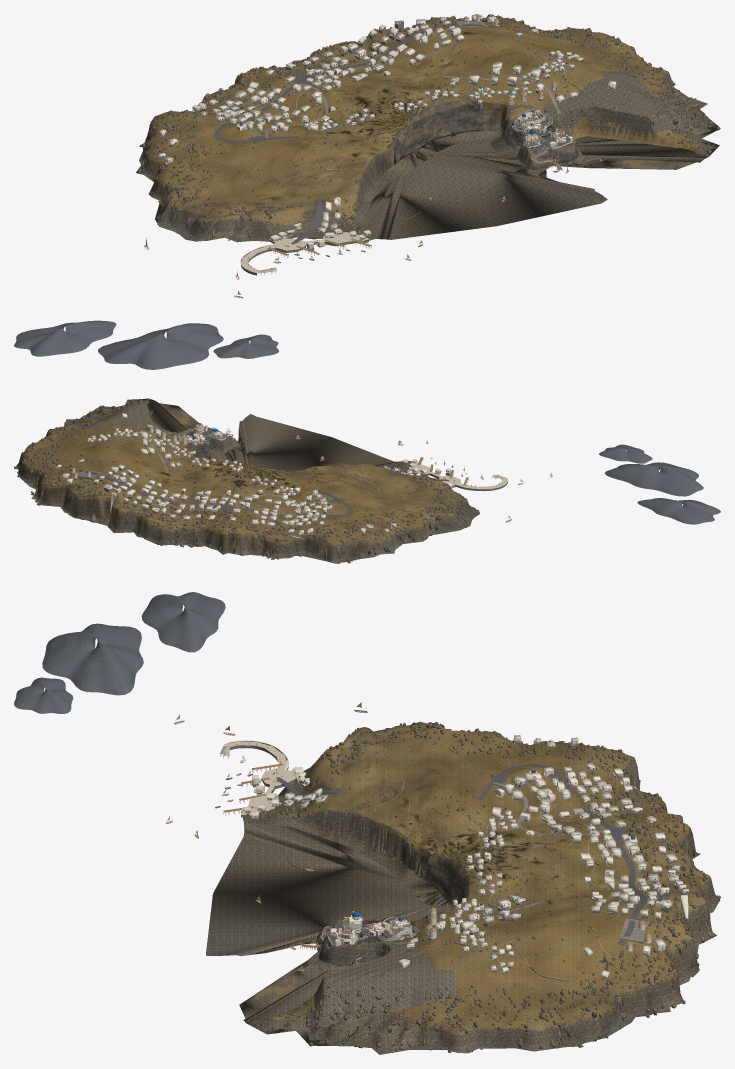
File: santorini_v4_lite-DRpYj75b.glb
The picture shows the model from 3 angles, top to bottom: view 1: azimuth 30°, elevation 25°; view 2: azimuth 150°, elevation 25°; view 3: azimuth 270°, elevation 25°; orthographic projection. The views are drawn at different scales.
Parts seen in each view (by area): view 1: object 57, object 87, object 63, object 85, object 67, object 66, object 88, object 56, object 53, object 58, object 4; view 2: object 57, object 63, object 87, object 85, object 66, object 67, object 56, object 58, object 4, object 53; view 3: object 57, object 87, object 63, object 85, object 67, object 66, object 56, object 88, object 58, object 4, object 53.
Boxes of the visible parts, x1=… form: object 57: x1=136, y1=16, x2=720, y2=243; object 87: x1=147, y1=14, x2=617, y2=297; object 63: x1=138, y1=14, x2=719, y2=241; object 85: x1=14, y1=320, x2=278, y2=369; object 67: x1=522, y1=71, x2=685, y2=169; object 66: x1=159, y1=20, x2=642, y2=298; object 88: x1=395, y1=100, x2=485, y2=159; object 56: x1=214, y1=24, x2=571, y2=244; object 53: x1=160, y1=18, x2=640, y2=273; object 58: x1=241, y1=232, x2=368, y2=273; object 4: x1=145, y1=14, x2=568, y2=297; object 57: x1=16, y1=398, x2=479, y2=563; object 63: x1=14, y1=398, x2=478, y2=563; object 87: x1=55, y1=410, x2=518, y2=536; object 85: x1=599, y1=444, x2=720, y2=524; object 66: x1=56, y1=405, x2=552, y2=538; object 67: x1=82, y1=402, x2=227, y2=442; object 56: x1=78, y1=428, x2=448, y2=517; object 58: x1=409, y1=461, x2=507, y2=488; object 4: x1=71, y1=426, x2=551, y2=521; object 53: x1=66, y1=424, x2=508, y2=537; object 57: x1=206, y1=721, x2=719, y2=1054; object 87: x1=169, y1=710, x2=688, y2=978; object 63: x1=246, y1=721, x2=720, y2=1052; object 85: x1=14, y1=592, x2=225, y2=713; object 67: x1=314, y1=921, x2=458, y2=1017; object 66: x1=174, y1=720, x2=689, y2=981; object 56: x1=276, y1=763, x2=647, y2=945; object 88: x1=425, y1=852, x2=470, y2=905; object 58: x1=224, y1=741, x2=304, y2=815; object 4: x1=166, y1=702, x2=657, y2=949; object 53: x1=220, y1=738, x2=687, y2=980.
Size of the model in its own units: 882 by 54.55 by 569.
136 materials, 85 textured.
